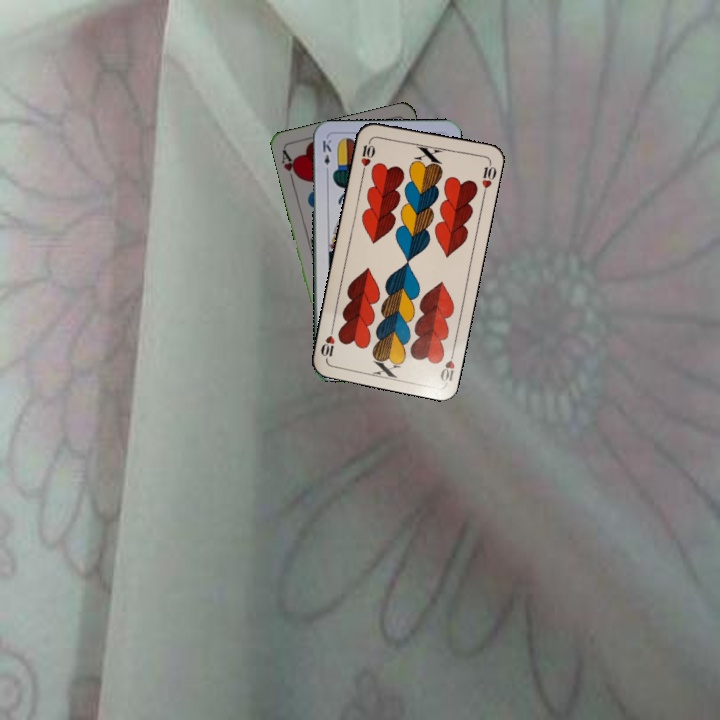EK: (318, 136, 334, 176)
H10: (357, 136, 378, 176), (436, 345, 457, 385)
HA: (278, 146, 302, 186)
